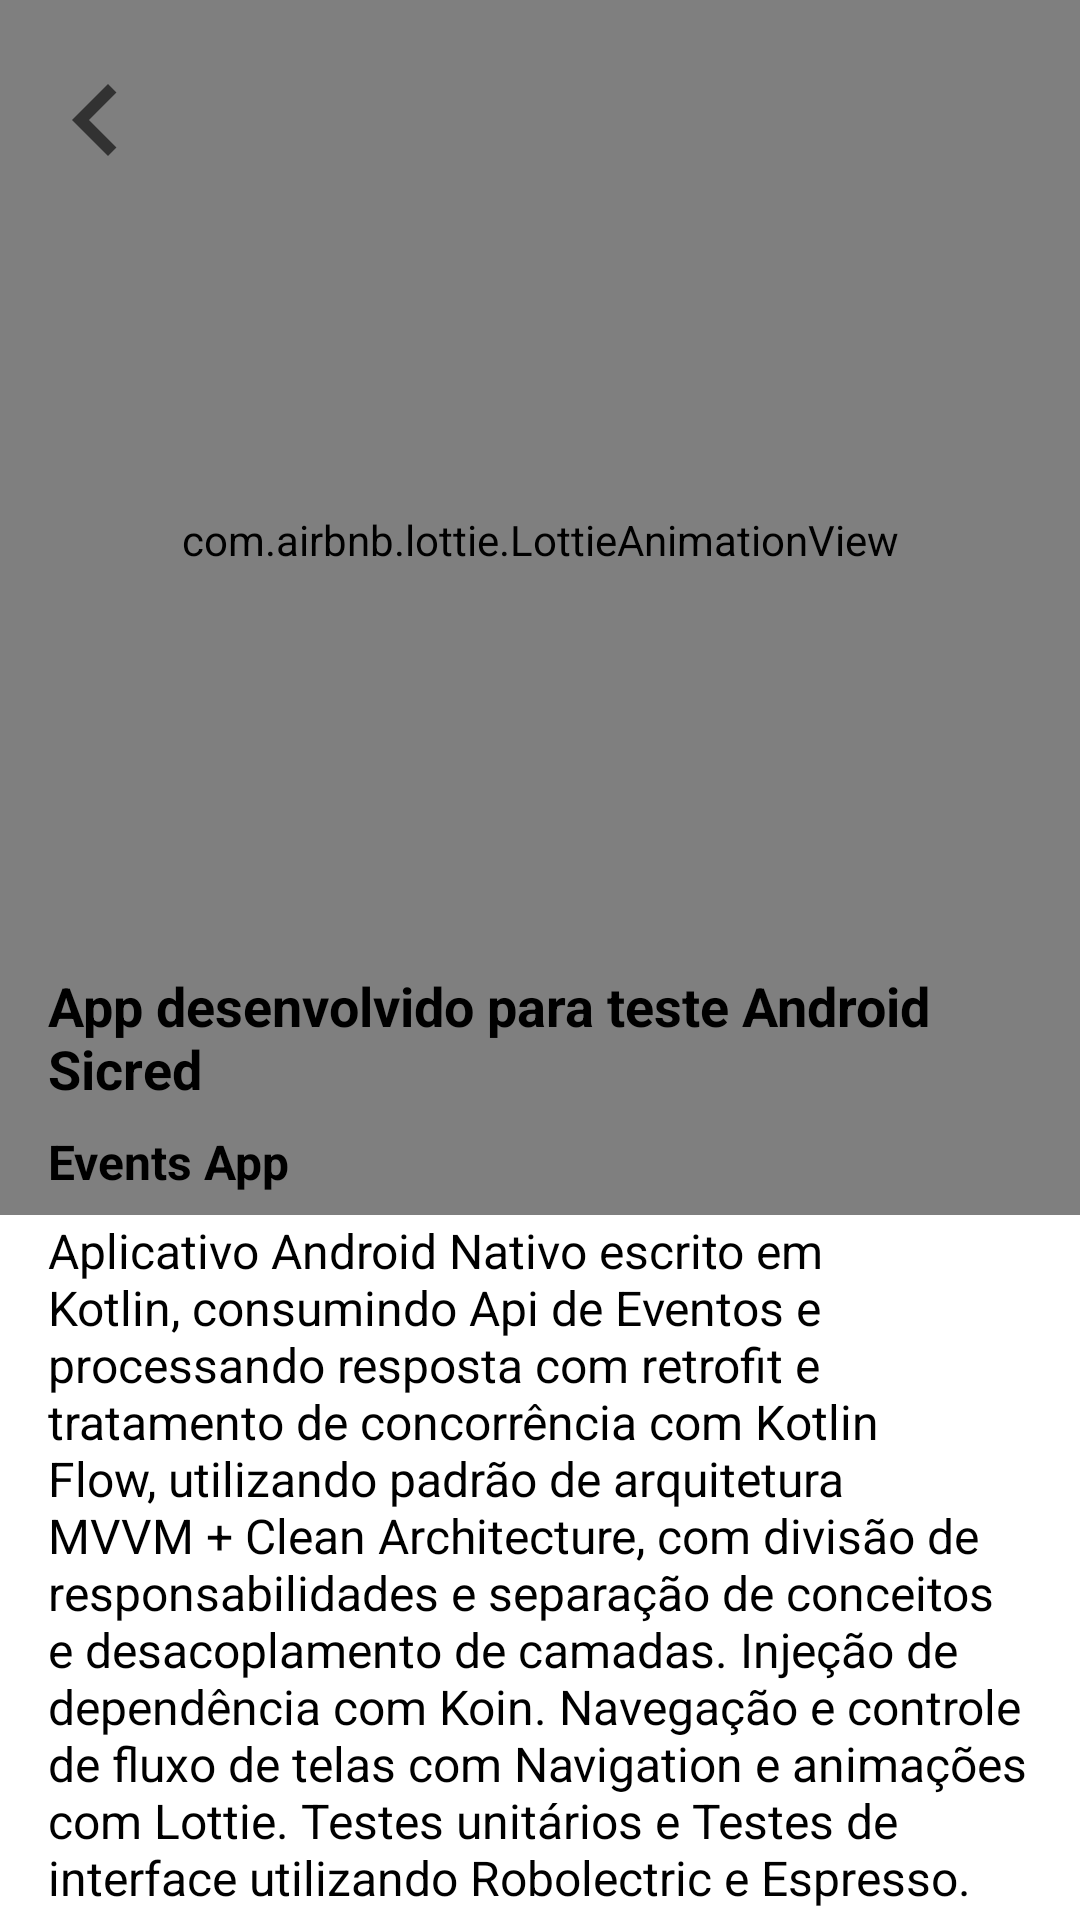

Icons on this 1080 × 1920 Android screen, each with the point to tap as (x=x, y=y):
voltar botão: (x=94, y=120)
